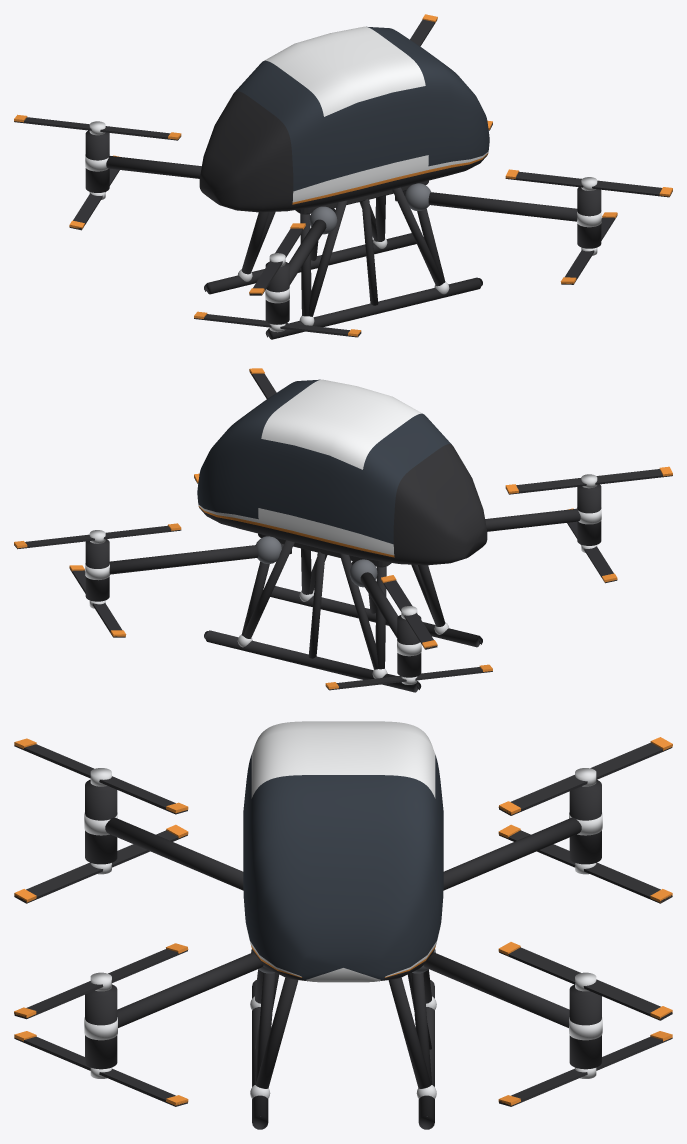
File: taxi-user-20260923.glb
The picture shows the model from 3 angles, top to bottom: view 1: azimuth 30°, elevation 25°; view 2: azimuth 150°, elevation 25°; view 3: azimuth 270°, elevation 25°; orthographic projection. The views are drawn at different scales.
Parts seen in each view (by area): view 1: Cabin_Body, Skid_R, Arm_3, Skid_L, Arm_1, Rotor_3_upper, Motor_Pod_1, Motor_Pod_3, Motor_Pod_2, Gear_Strut_Out_-1_-1, Gear_Strut_Out_1_-1, Rotor_1_upper (+10 smaller); view 2: Cabin_Body, Skid_L, Arm_0, Skid_R, Arm_2, Rotor_2_upper, Motor_Pod_0, Motor_Pod_2, Gear_Strut_Out_-1_1, Gear_Strut_Out_1_1, Motor_Pod_1, Rotor_0_upper (+10 smaller); view 3: Cabin_Body, Arm_0, Arm_3, Arm_1, Arm_2, Motor_Pod_3, Motor_Pod_0, Motor_Pod_2, Motor_Pod_1, Rotor_0_upper, Rotor_1_upper, Rotor_3_upper (+11 smaller).
Boxes of the visible parts, box(x1,y1,x2,y2) form: Cabin_Body: box(199, 26, 489, 212); Skid_R: box(268, 277, 480, 339); Arm_3: box(395, 190, 577, 221); Skid_L: box(206, 233, 416, 294); Arm_1: box(106, 156, 201, 178); Rotor_3_upper: box(505, 171, 672, 197); Motor_Pod_1: box(85, 130, 109, 192); Motor_Pod_3: box(577, 187, 601, 248); Motor_Pod_2: box(265, 262, 289, 324); Gear_Strut_Out_-1_-1: box(308, 200, 347, 316); Gear_Strut_Out_1_-1: box(392, 187, 443, 286); Rotor_1_upper: box(14, 117, 181, 140); Cabin_Body: box(197, 379, 487, 565); Skid_L: box(206, 630, 418, 692); Arm_0: box(109, 543, 291, 574); Skid_R: box(270, 586, 480, 647); Arm_2: box(485, 508, 580, 531); Rotor_2_upper: box(505, 469, 672, 494); Motor_Pod_0: box(85, 539, 109, 601); Motor_Pod_2: box(577, 484, 601, 545); Gear_Strut_Out_-1_1: box(339, 553, 378, 669); Gear_Strut_Out_1_1: box(243, 540, 294, 638); Motor_Pod_1: box(397, 615, 421, 677); Rotor_0_upper: box(14, 525, 181, 549); Cabin_Body: box(243, 721, 443, 982); Arm_0: box(423, 952, 569, 1027); Arm_3: box(117, 952, 263, 1027); Arm_1: box(443, 817, 581, 890); Arm_2: box(105, 817, 243, 890); Motor_Pod_3: box(85, 984, 117, 1069); Motor_Pod_0: box(569, 984, 601, 1069); Motor_Pod_2: box(85, 779, 117, 864); Motor_Pod_1: box(569, 780, 601, 864); Rotor_0_upper: box(499, 947, 672, 1020); Rotor_1_upper: box(499, 742, 672, 815); Rotor_3_upper: box(14, 949, 187, 1019).
Size of what is drawn, in the model's own units: 4.91 by 2.63 by 4.91.
